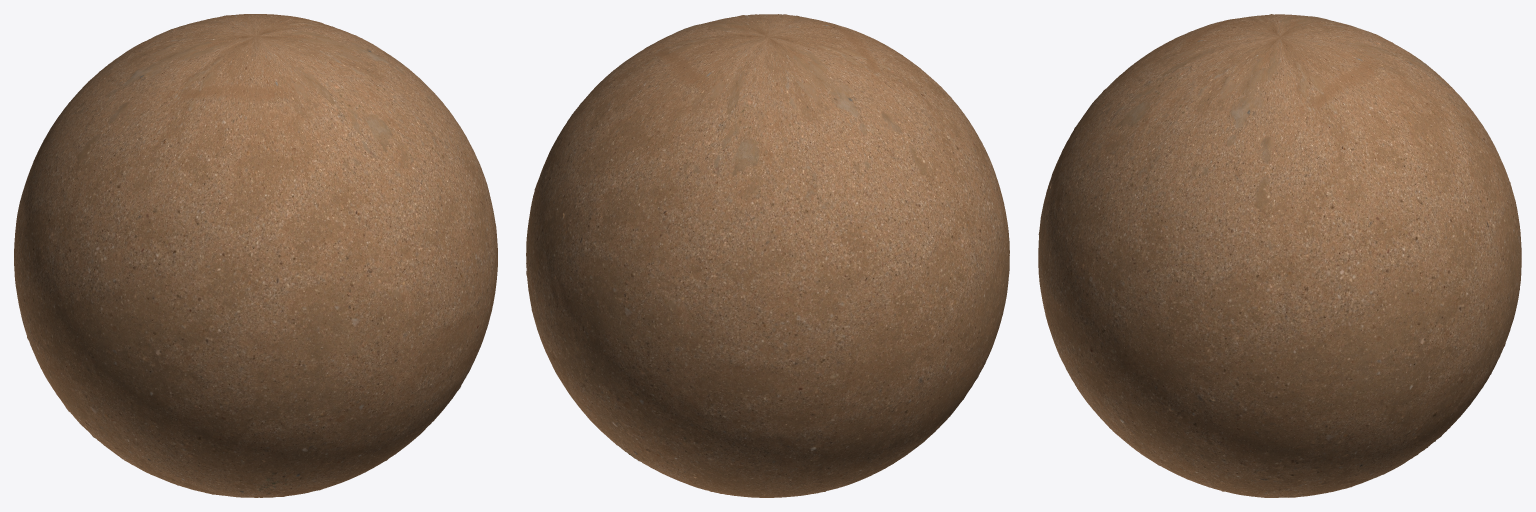
File: sandy_gravel_02_1k.gltf
3 renders of one model, left to right at view 1: azimuth 30°, elevation 25°; view 2: azimuth 150°, elevation 25°; view 3: azimuth 270°, elevation 25°, orthographic.
Parts seen in each view (by area): view 1: sphere_gltf; view 2: sphere_gltf; view 3: sphere_gltf.
Part boxes in pixels (<box>): sphere_gltf: <box>14,14,497,497</box>; sphere_gltf: <box>526,14,1009,497</box>; sphere_gltf: <box>1038,14,1521,497</box>.
Size of the model in its own units: 2.53 by 2.53 by 2.53.
